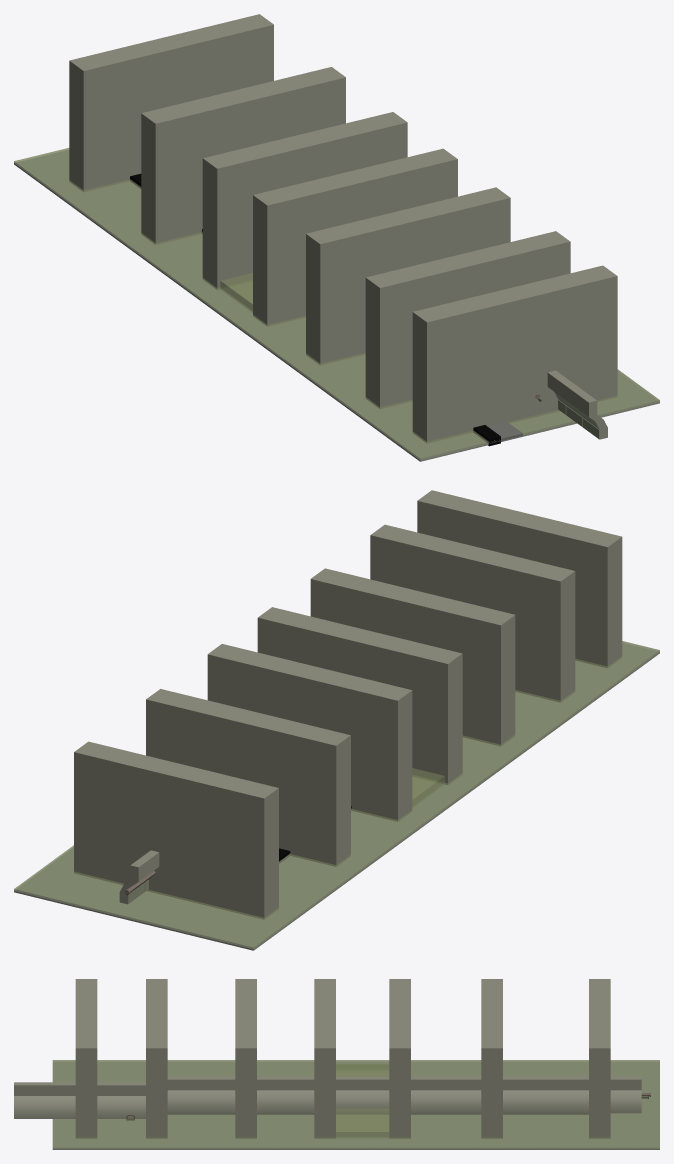
The model's file is TUTORIAL SCENE.fbx.
3 views of the same model, one above another, from view 1: azimuth 30°, elevation 25°; view 2: azimuth 150°, elevation 25°; view 3: azimuth 270°, elevation 25° (orthographic). The views are drawn at different scales.
Visible parts, largest first — view 1: pCube5, WATER, pCube20, GROUND, pCube18, pCube8, pCube14, pCube16, pCube3, pCube30, WATER1; view 2: pCube20, WATER, GROUND, pCube18, pCube16, pCube3, pCube8, pCube14, pCube5, pCube29, WATER1; view 3: WATER, GROUND, pCube7, pCube28, pCube29, pCube30, pCube5, pCube18, pCube20, pCube16, pCube14, pCube8 (+3 smaller).
Part boxes in pixels (x1,y1,x2,y2): pCube5: (412, 265, 617, 443); WATER: (14, 148, 659, 460); pCube20: (69, 14, 273, 191); GROUND: (14, 150, 659, 461); pCube18: (141, 67, 345, 244); pCube8: (306, 187, 510, 365); pCube14: (253, 148, 457, 326); pCube16: (202, 112, 407, 289); pCube3: (365, 231, 570, 409); pCube30: (547, 370, 607, 439); WATER1: (220, 273, 252, 312); pCube20: (74, 741, 278, 919); WATER: (14, 641, 659, 949); GROUND: (14, 643, 659, 950); pCube18: (146, 689, 350, 866); pCube16: (207, 644, 412, 821); pCube3: (370, 524, 575, 702); pCube8: (310, 568, 515, 746); pCube14: (257, 607, 462, 784); pCube5: (417, 490, 622, 668); pCube29: (119, 850, 159, 904); WATER1: (412, 768, 444, 807); WATER: (52, 1060, 659, 1149); GROUND: (52, 1061, 659, 1149); pCube7: (167, 1076, 314, 1113); pCube28: (336, 1076, 481, 1113); pCube29: (503, 1076, 641, 1113); pCube30: (14, 1082, 145, 1118); pCube5: (75, 979, 97, 1138); pCube18: (481, 979, 502, 1138); pCube20: (589, 979, 610, 1138); pCube16: (389, 979, 410, 1138); pCube14: (314, 979, 335, 1138); pCube8: (235, 979, 256, 1138).
Size of the model in its own units: 219 by 116 by 684.
